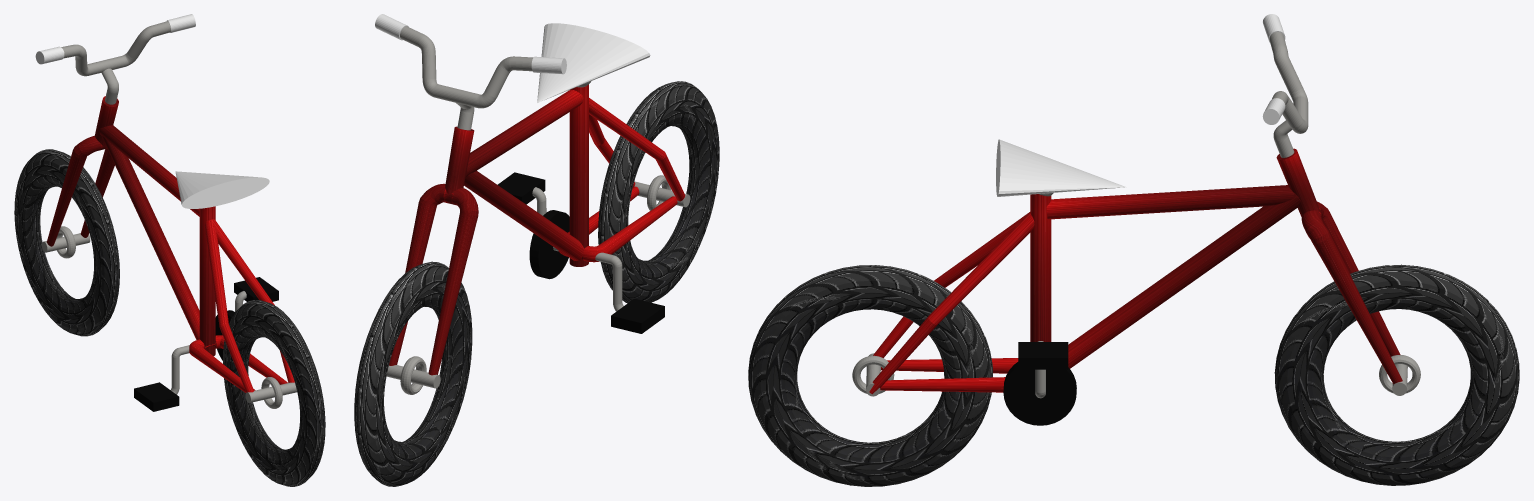
File: bici.fbx
3 renders of one model, left to right at view 1: azimuth 30°, elevation 25°; view 2: azimuth 150°, elevation 25°; view 3: azimuth 270°, elevation 25°, orthographic. The views are drawn at different scales.
Visible parts, largest first — view 1: Rosca, Rosca.001, Cilindro.003, Cilindro.013, Cono, Cilindro.008, Cilindro, Cilindro.011, Cilindro.004, Cilindro.001, Cubo.001, Cilindro.014 (+8 smaller); view 2: Rosca, Rosca.001, Cilindro.008, Cono, Cilindro, Cilindro.011, Cilindro.003, Cilindro.004, Cilindro.013, Cilindro.001, Cilindro.007, Cubo.001 (+8 smaller); view 3: Rosca, Rosca.001, Cilindro.003, Cilindro.004, Cilindro.013, Cilindro.008, Cono, Cilindro.007, Cilindro, Cilindro.001, Cilindro.011, Cubo.002 (+2 smaller).
Part boxes in pixels (x1,y1,x2,y2): Rosca: (14,149,119,336); Rosca.001: (223,300,325,486); Cilindro.003: (101,135,215,348); Cilindro.013: (204,219,294,392); Cono: (175,171,269,208); Cilindro.008: (47,136,114,246); Cilindro: (199,206,215,356); Cilindro.011: (61,21,170,76); Cilindro.004: (99,125,199,216); Cilindro.001: (189,335,287,392); Cubo.001: (134,382,179,411); Cilindro.014: (35,14,195,64); Rosca: (354,261,472,486); Rosca.001: (598,81,719,303); Cilindro.008: (389,183,478,375); Cono: (537,23,650,102); Cilindro: (569,84,588,266); Cilindro.011: (400,26,533,108); Cilindro.003: (464,171,584,260); Cilindro.004: (465,89,583,177); Cilindro.013: (589,98,685,201); Cilindro.001: (558,186,677,262); Cilindro.007: (529,210,569,279); Cubo.001: (611,298,664,333); Rosca: (1274,264,1519,485); Rosca.001: (748,265,992,486); Cilindro.003: (1068,193,1300,368); Cilindro.004: (1046,185,1298,219); Cilindro.013: (869,212,1034,394); Cilindro.008: (1301,201,1402,384); Cono: (996,139,1126,196); Cilindro.007: (1003,362,1076,425); Cilindro: (1030,194,1051,341); Cilindro.001: (880,358,1018,392); Cilindro.011: (1269,32,1308,133); Cubo.002: (1018,342,1068,369).
Size of the model in its own units: 137 by 280 by 460.
Materials: 5 (2 with a texture image).
